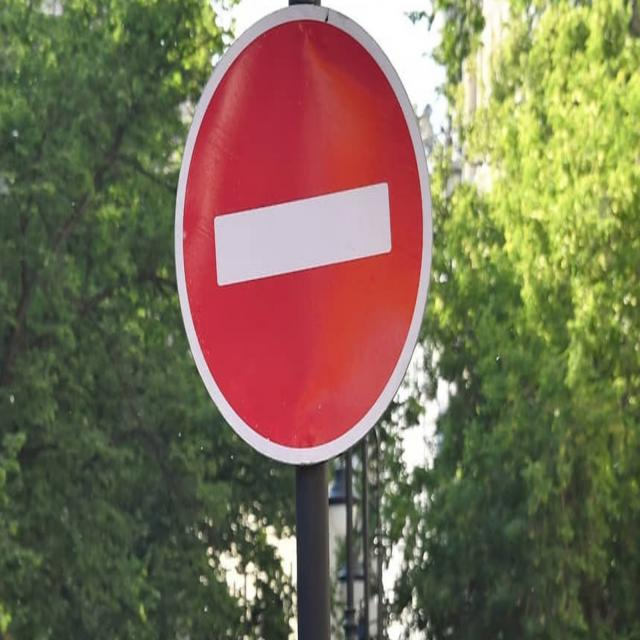no entry: (172, 0, 438, 474)
